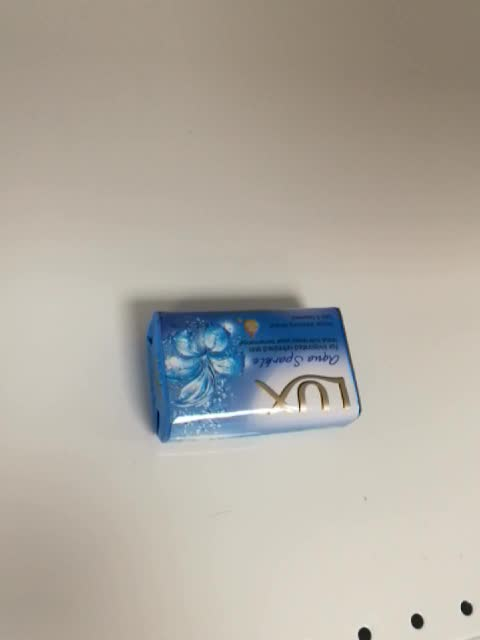soap: (142, 306, 361, 446)
